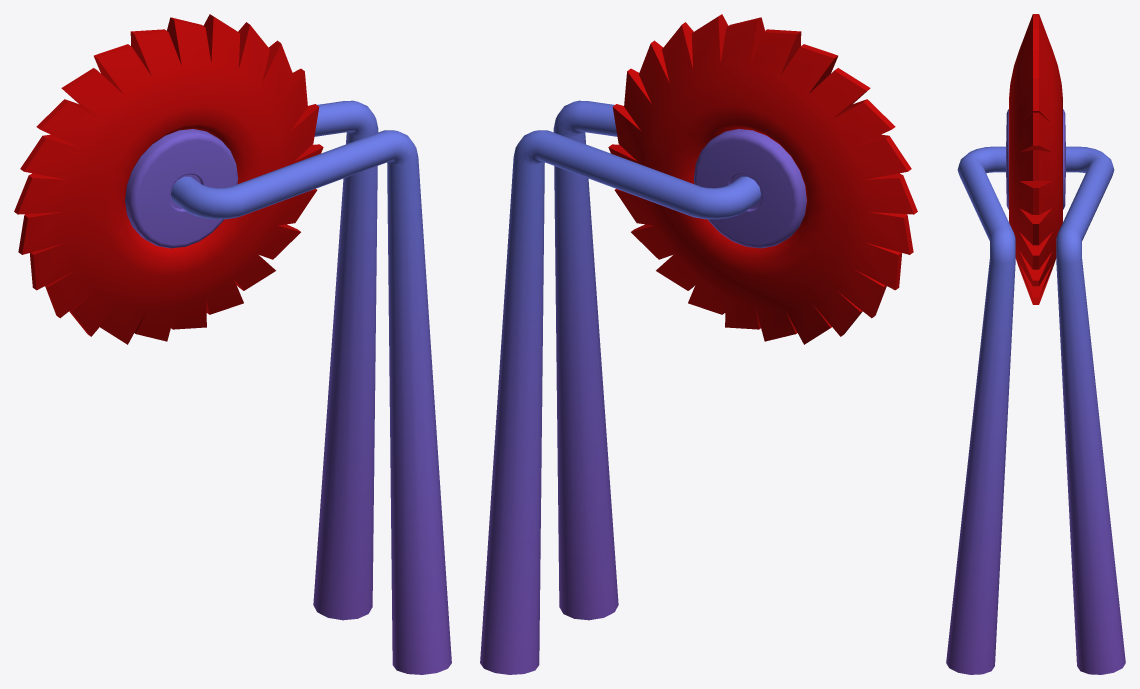
Rendered from Obs_16.fbx.
3 views of the same model, side by side, from view 1: azimuth 30°, elevation 25°; view 2: azimuth 150°, elevation 25°; view 3: azimuth 270°, elevation 25° (orthographic). The views are drawn at different scales.
Parts seen in each view (by area): view 1: Obs_16_Saw, Obs_16_Base; view 2: Obs_16_Saw, Obs_16_Base; view 3: Obs_16_Base, Obs_16_Saw.
Boxes of the visible parts, bbox=[...] form: Obs_16_Saw: bbox=[14, 14, 323, 344]; Obs_16_Base: bbox=[171, 100, 451, 674]; Obs_16_Saw: bbox=[608, 14, 917, 344]; Obs_16_Base: bbox=[480, 100, 760, 674]; Obs_16_Base: bbox=[946, 146, 1125, 674]; Obs_16_Saw: bbox=[1006, 14, 1065, 304].
Bounding box in the file's own units: 2.38 × 3.87 × 1.14.
